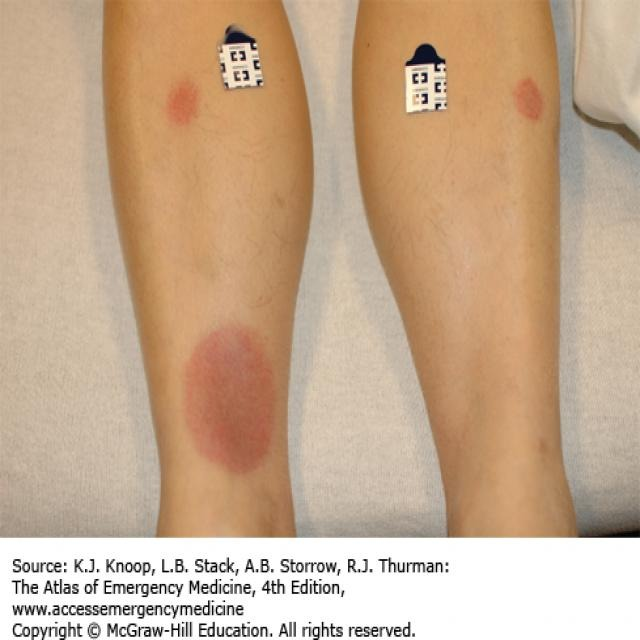Ringworm: (160, 300, 295, 480), (503, 63, 558, 135), (157, 72, 213, 137)
